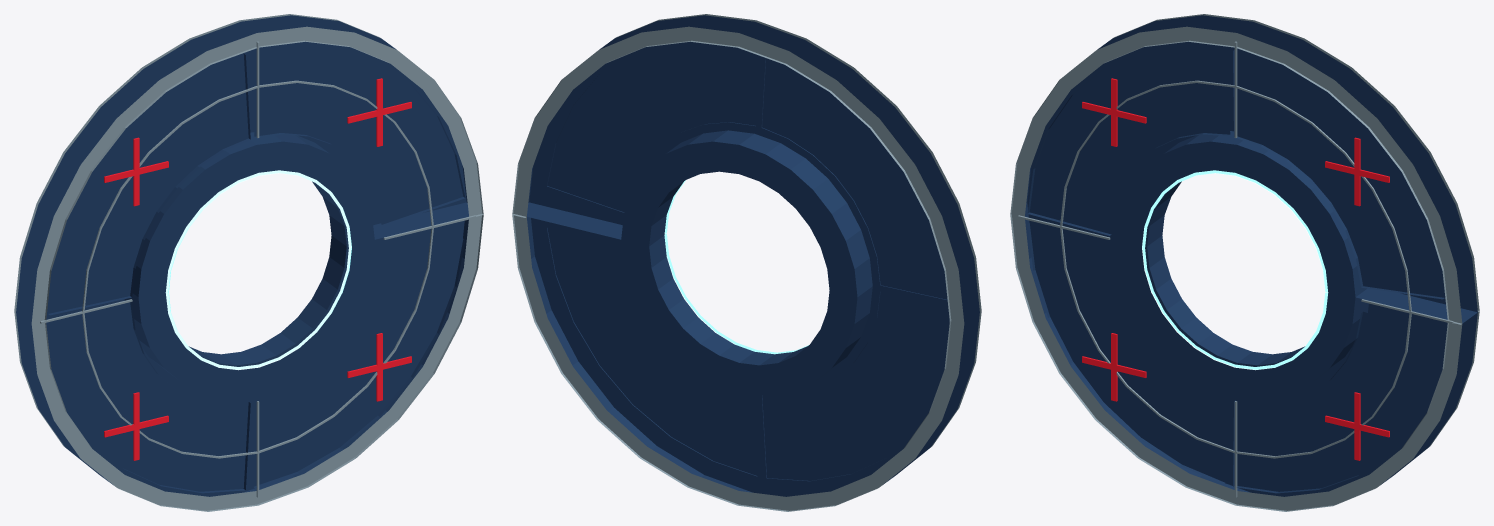
The model's file is foundry-panel-fun8-low.glb.
3 views of the same model, side by side, from view 1: azimuth 30°, elevation 25°; view 2: azimuth 150°, elevation 25°; view 3: azimuth 330°, elevation 25° (orthographic).
Visible parts, largest first — view 1: RENDER_PANEL_SHELL, RENDER_PANEL_FRAME, RENDER_PANEL_HAZARD, RENDER_PANEL_SIGNAL; view 2: RENDER_PANEL_SHELL, RENDER_PANEL_FRAME, RENDER_PANEL_SIGNAL; view 3: RENDER_PANEL_SHELL, RENDER_PANEL_FRAME, RENDER_PANEL_HAZARD, RENDER_PANEL_SIGNAL.
Boxes of the visible parts, x1,y1,x2,y2 form: RENDER_PANEL_SHELL: (16, 15, 468, 496); RENDER_PANEL_FRAME: (14, 14, 483, 511); RENDER_PANEL_HAZARD: (104, 78, 411, 460); RENDER_PANEL_SIGNAL: (165, 170, 351, 370); RENDER_PANEL_SHELL: (527, 15, 979, 496); RENDER_PANEL_FRAME: (512, 14, 981, 511); RENDER_PANEL_SIGNAL: (664, 180, 808, 354); RENDER_PANEL_SHELL: (1025, 15, 1477, 496); RENDER_PANEL_FRAME: (1010, 14, 1479, 511); RENDER_PANEL_HAZARD: (1082, 78, 1389, 460); RENDER_PANEL_SIGNAL: (1142, 170, 1328, 370).
Size of what is drawn, in the model's own units: 41 by 41 by 3.09.
